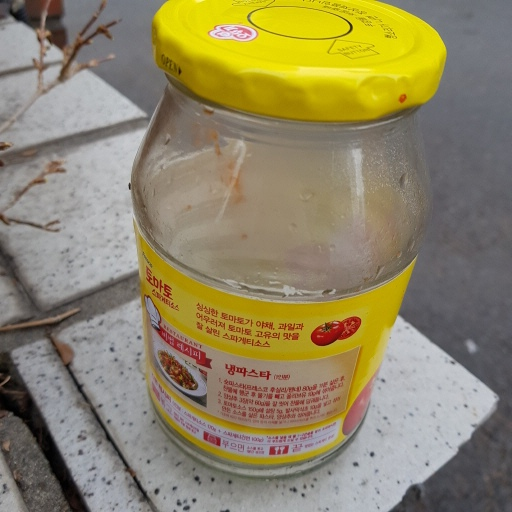Glass_5: (125, 1, 448, 474)
